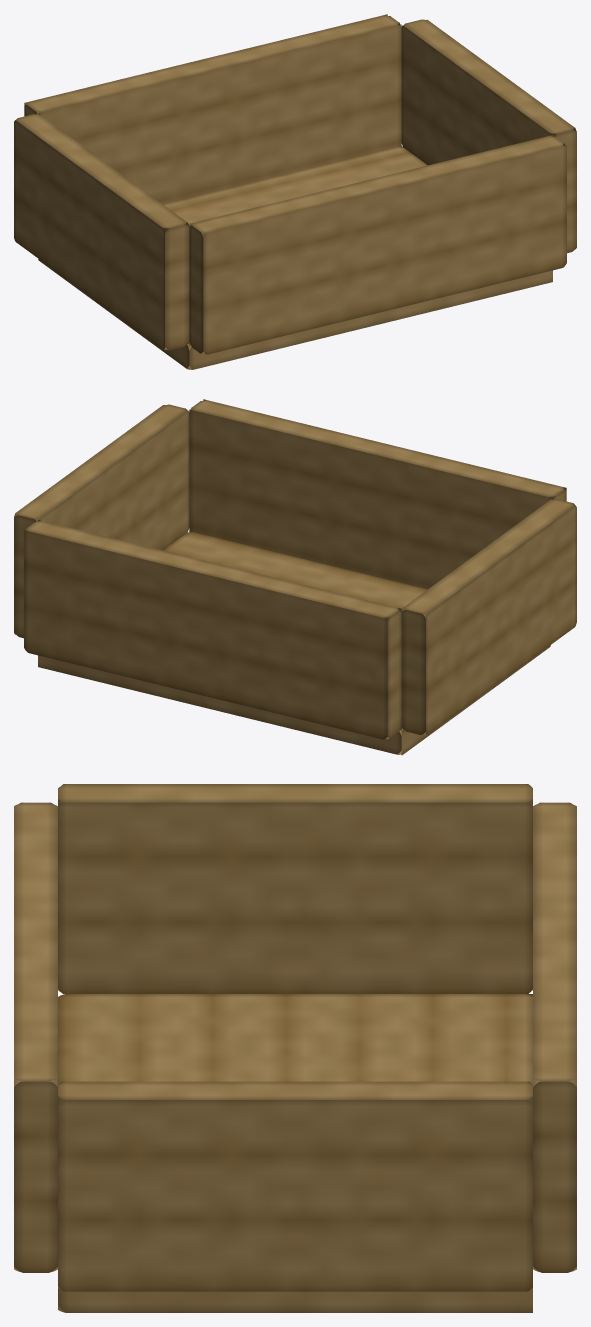
File: boat_oak.fbx
3 views of the same model, one above another, from view 1: azimuth 30°, elevation 25°; view 2: azimuth 150°, elevation 25°; view 3: azimuth 270°, elevation 25° (orthographic). The views are drawn at different scales.
Parts seen in each view (by area): view 1: Cube.088; view 2: Cube.088; view 3: Cube.088.
Boxes of the visible parts, bbox=[...] form: Cube.088: bbox=[14, 14, 576, 369]; Cube.088: bbox=[14, 399, 576, 755]; Cube.088: bbox=[14, 784, 576, 1312].
Size of the model in its own units: 283 by 96.64 by 213.
